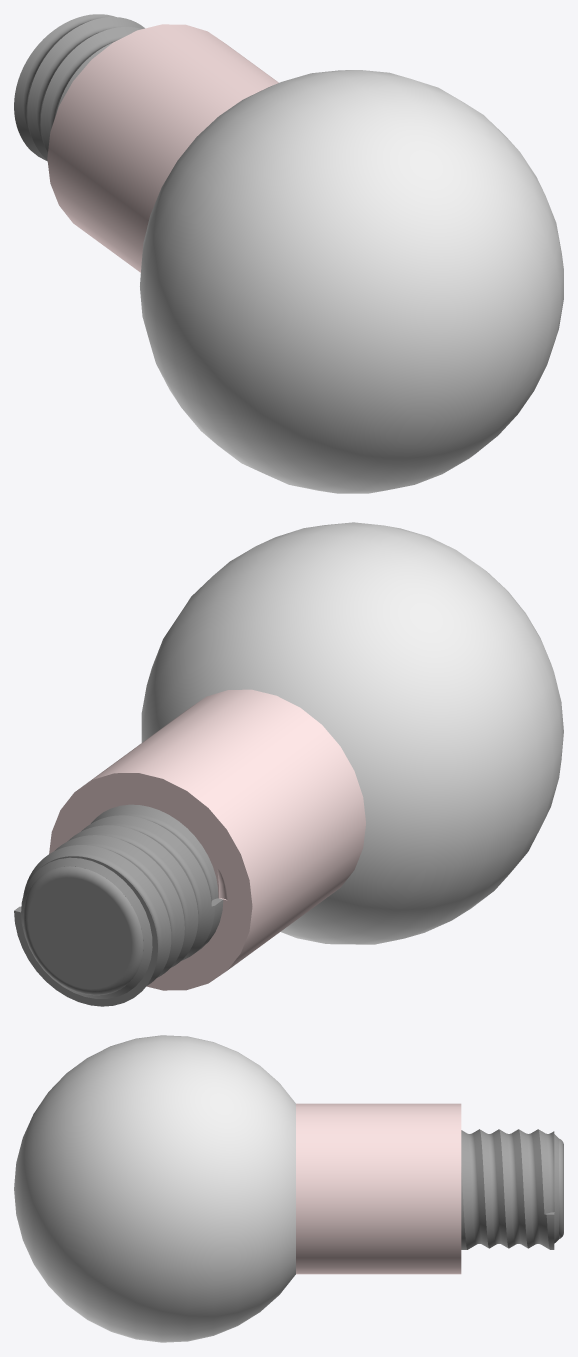
The picture shows the model from 3 angles, top to bottom: view 1: azimuth 30°, elevation 25°; view 2: azimuth 150°, elevation 25°; view 3: azimuth 270°, elevation 25°; orthographic projection. The views are drawn at different scales.
Visible parts, largest first — view 1: Body1, Body2; view 2: Body1, Body2, Body4; view 3: Body1, Body2, Body4.
Boxes of the visible parts, <box> form: Body1: <box>47,24,563,493</box>; Body2: <box>14,14,144,161</box>; Body1: <box>49,522,563,990</box>; Body2: <box>14,804,223,1006</box>; Body4: <box>23,866,143,995</box>; Body1: <box>14,1035,461,1342</box>; Body2: <box>461,1129,558,1249</box>; Body4: <box>559,1138,563,1238</box>.
Bounding box in the file's own units: 6.28 × 6.29 × 11.25.
